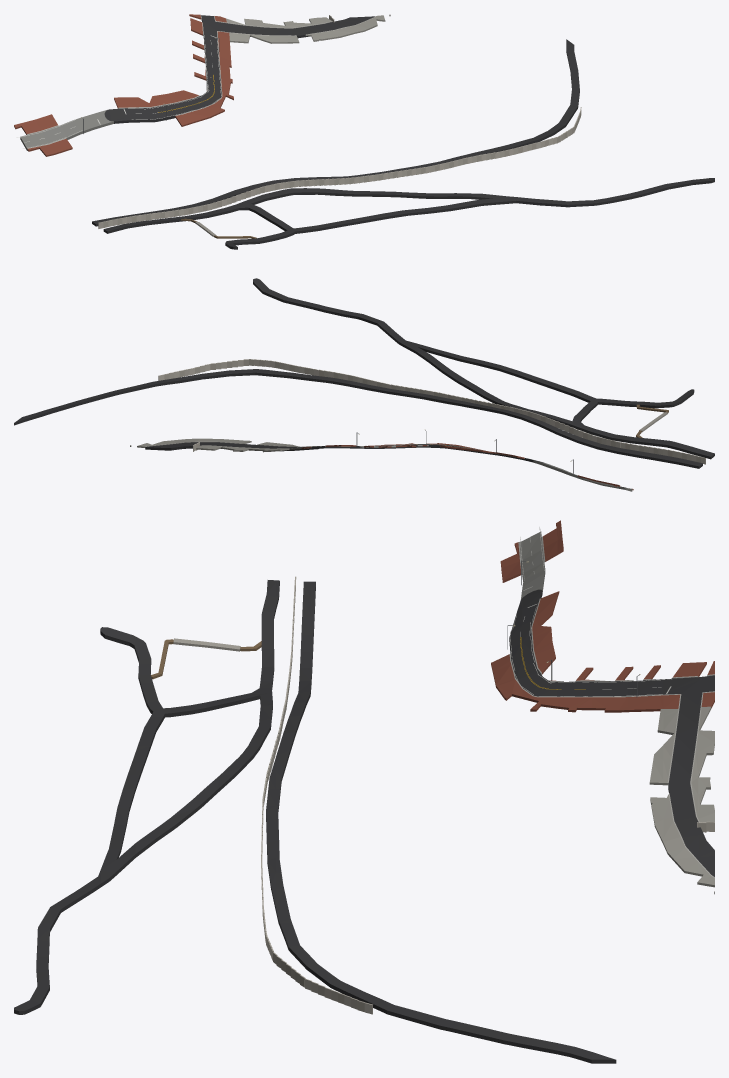
3 renders of one model, top to bottom at view 1: azimuth 30°, elevation 25°; view 2: azimuth 150°, elevation 25°; view 3: azimuth 270°, elevation 25°, orthographic. The views are drawn at different scales.
Bounding box in the file's own units: 296 × 43.48 × 199.
